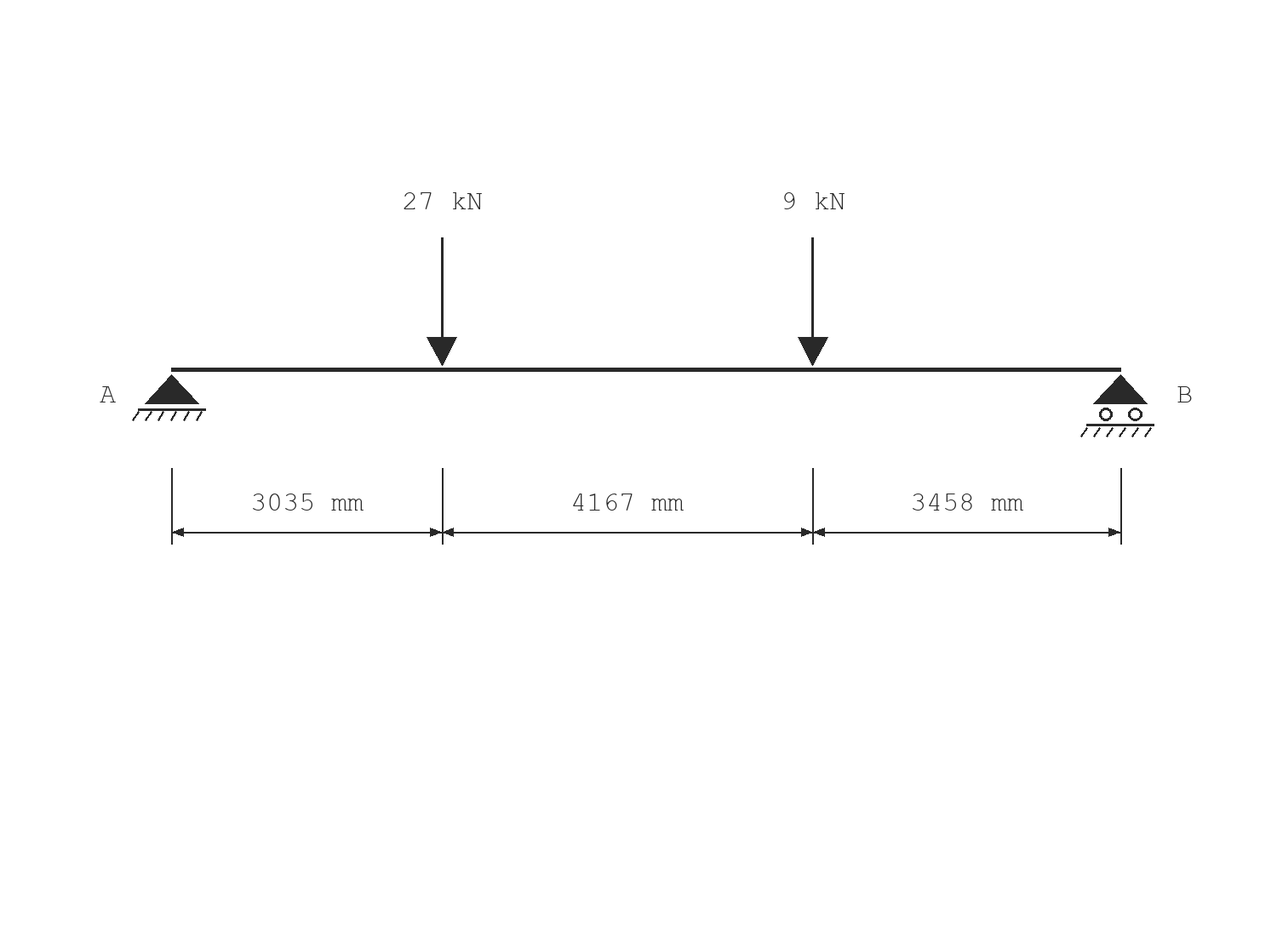pin_support: (132, 374, 206, 421)
point_load: (427, 237, 457, 366), (798, 237, 828, 366)
roller_support: (1080, 374, 1154, 437)
